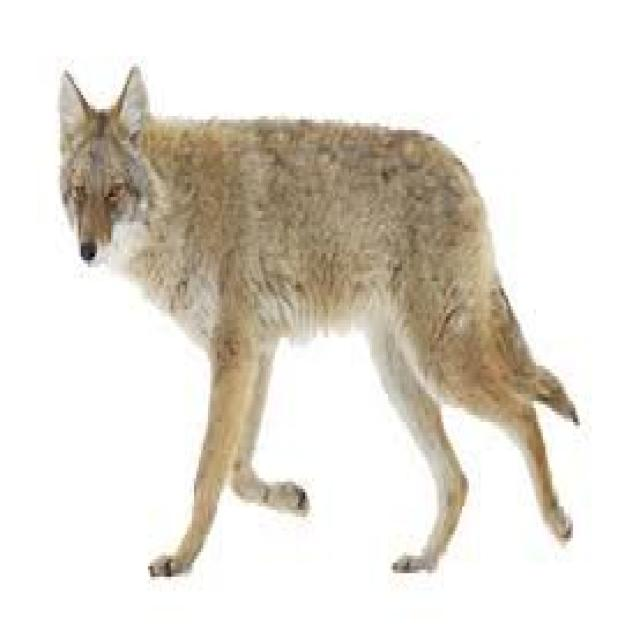Coyote: (53, 48, 582, 585)
